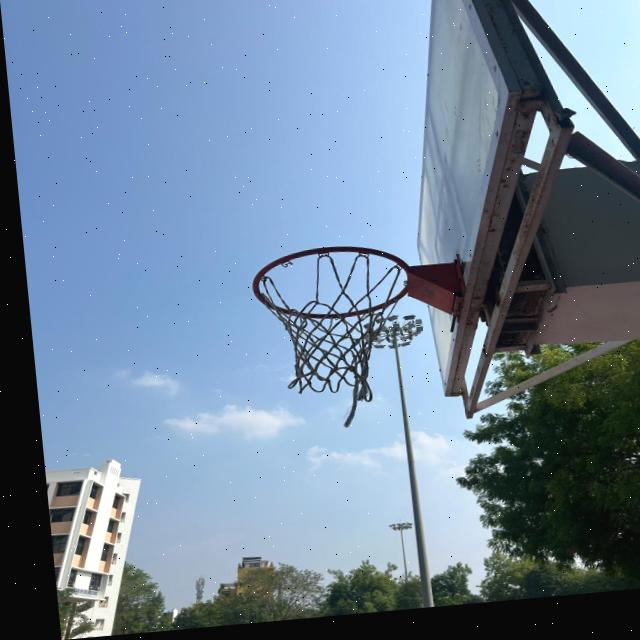hoop: (231, 236, 486, 433)
